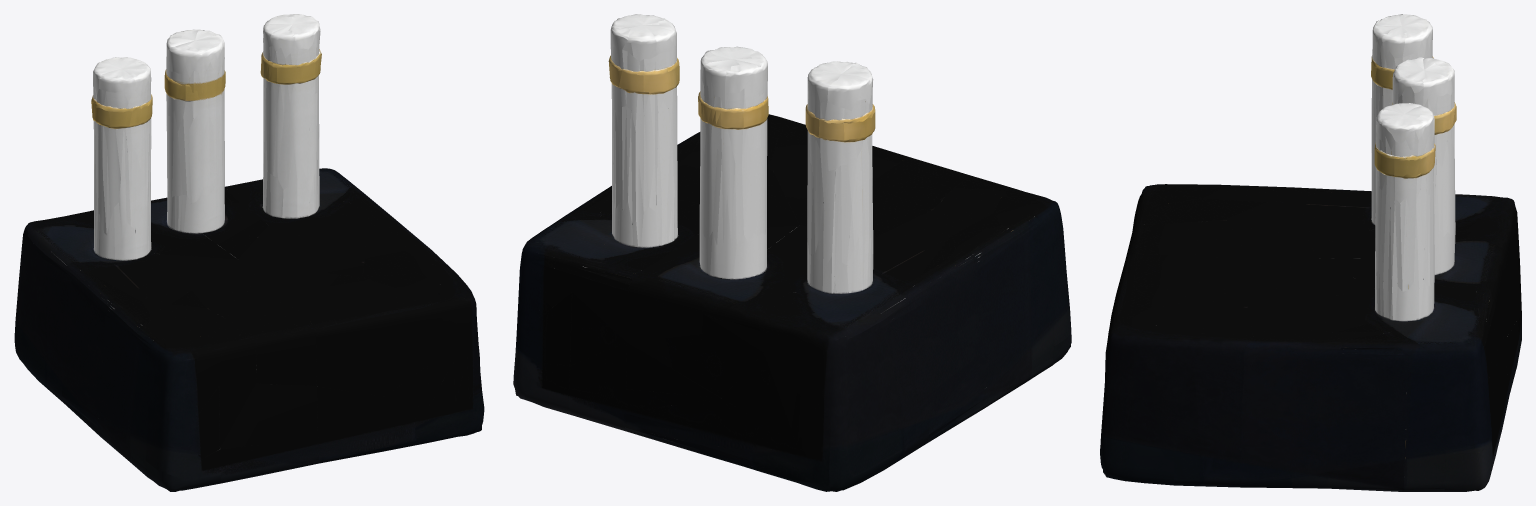
File: coal-power.glb
3 views of the same model, side by side, from view 1: azimuth 30°, elevation 25°; view 2: azimuth 150°, elevation 25°; view 3: azimuth 270°, elevation 25° (orthographic). The views are drawn at different scales.
Bounding box in the file's own units: 0.8438 × 0.7754 × 0.8691.
1 material, 1 textured.
